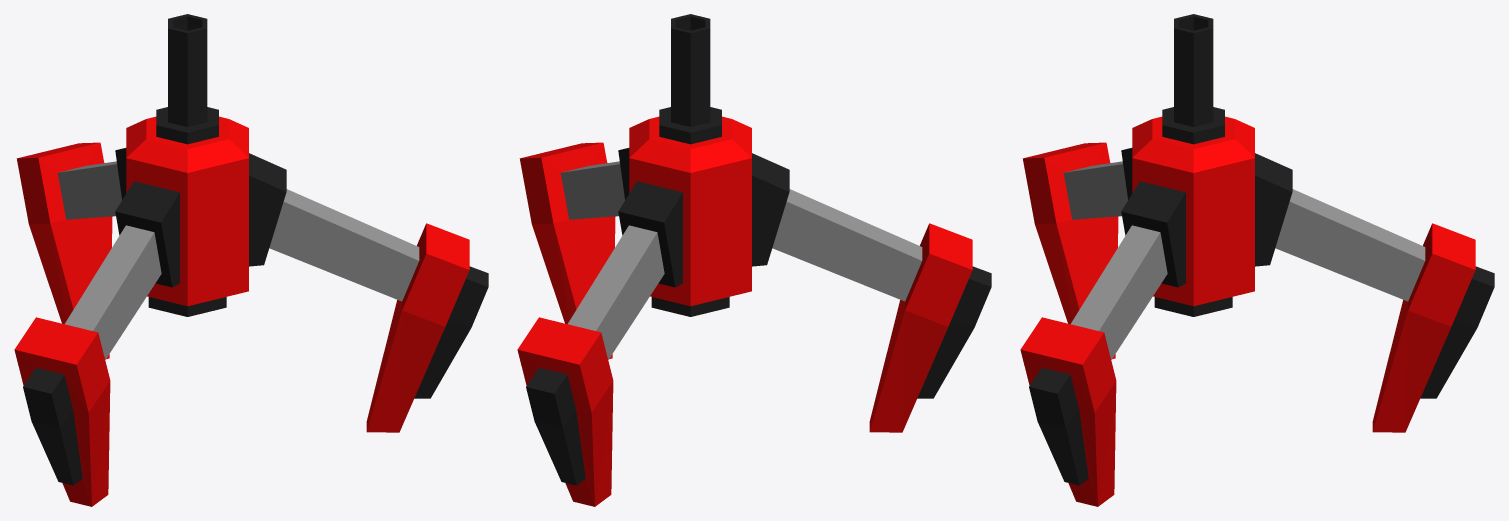
The model's file is SM_MapModel_DrillBase.FBX.
3 renders of one model, left to right at view 1: azimuth 30°, elevation 25°; view 2: azimuth 150°, elevation 25°; view 3: azimuth 270°, elevation 25°, orthographic.
Parts seen in each view (by area): view 1: Cone001; view 2: Cone001; view 3: Cone001.
Boxes of the visible parts, bbox=[...] form: Cone001: bbox=[14, 14, 488, 506]; Cone001: bbox=[517, 14, 991, 506]; Cone001: bbox=[1020, 14, 1494, 506].
Bounding box in the file's own units: 118 × 97.52 × 104.
